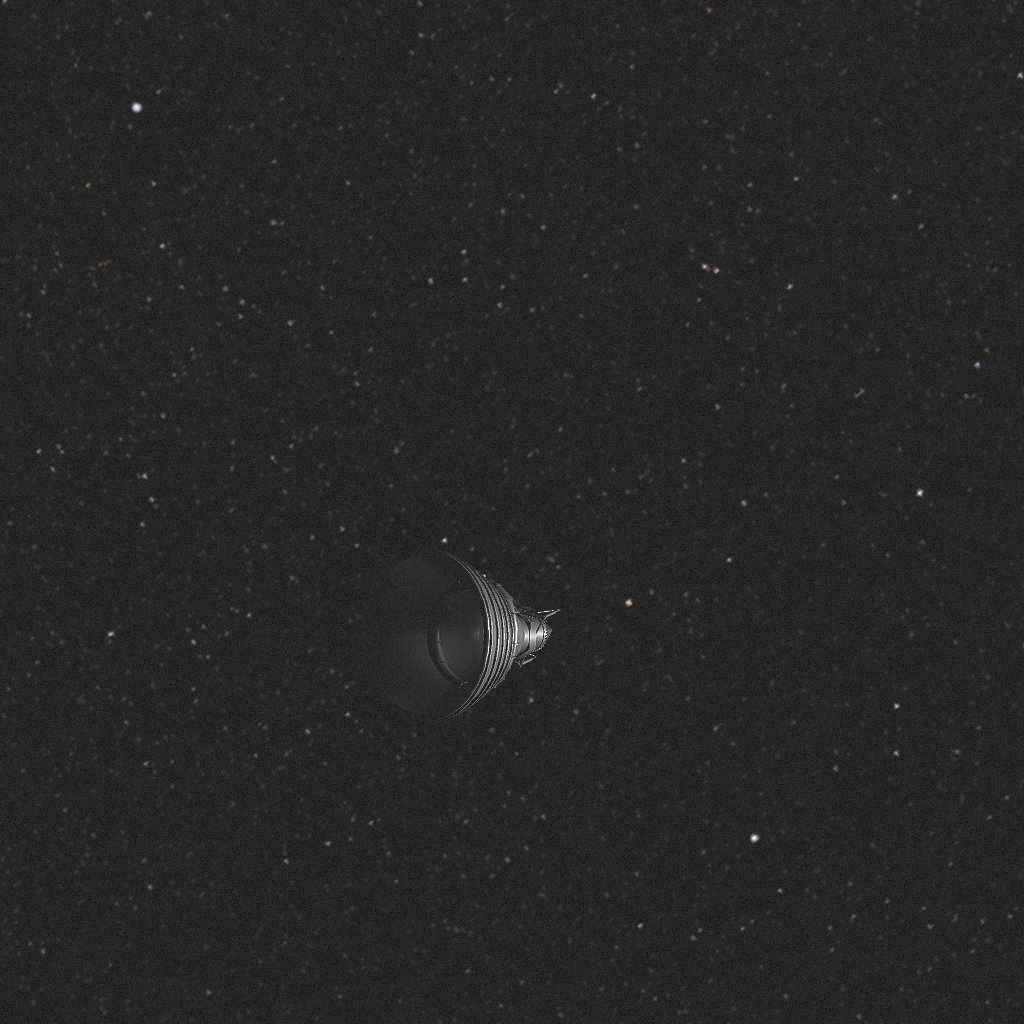debris: (361, 549, 560, 724)
